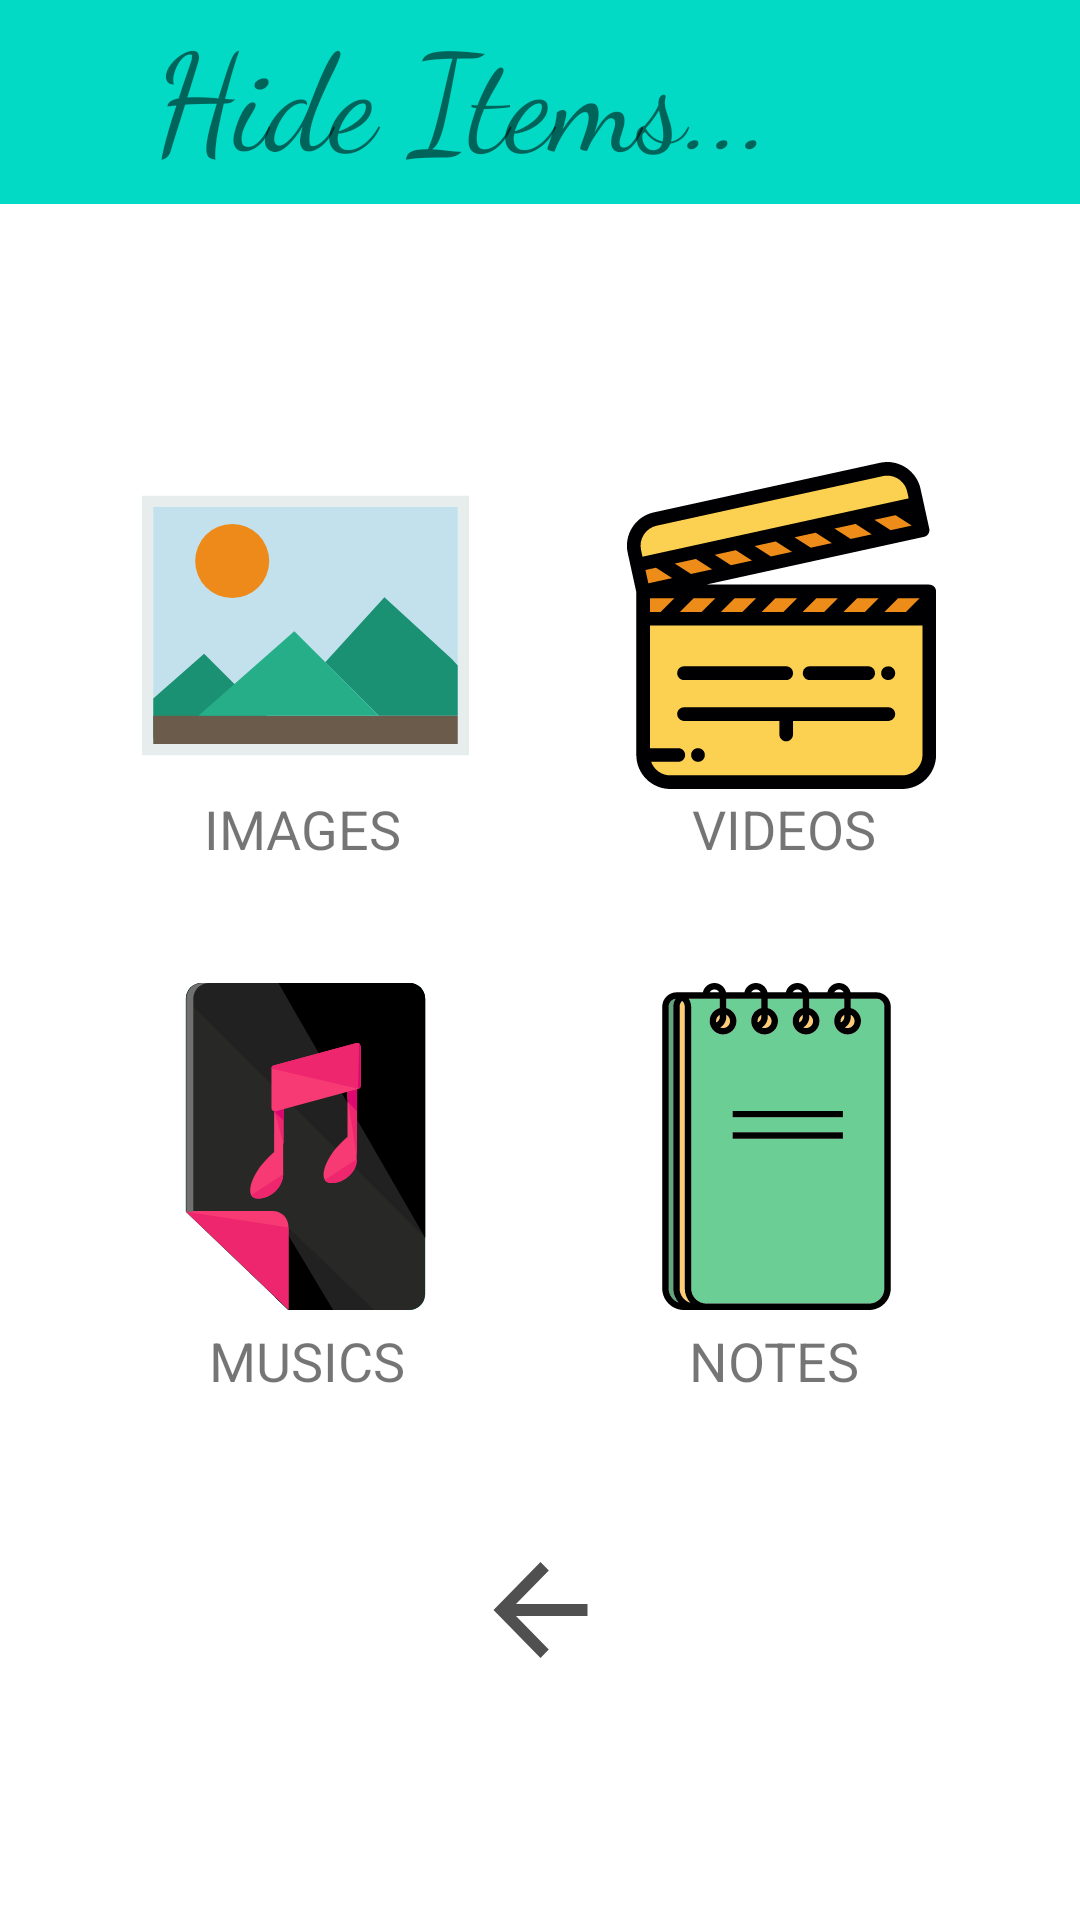

Where to tap for icons on this 1080w x 1920h app screen, as (x,y):
back: (541,1610)
